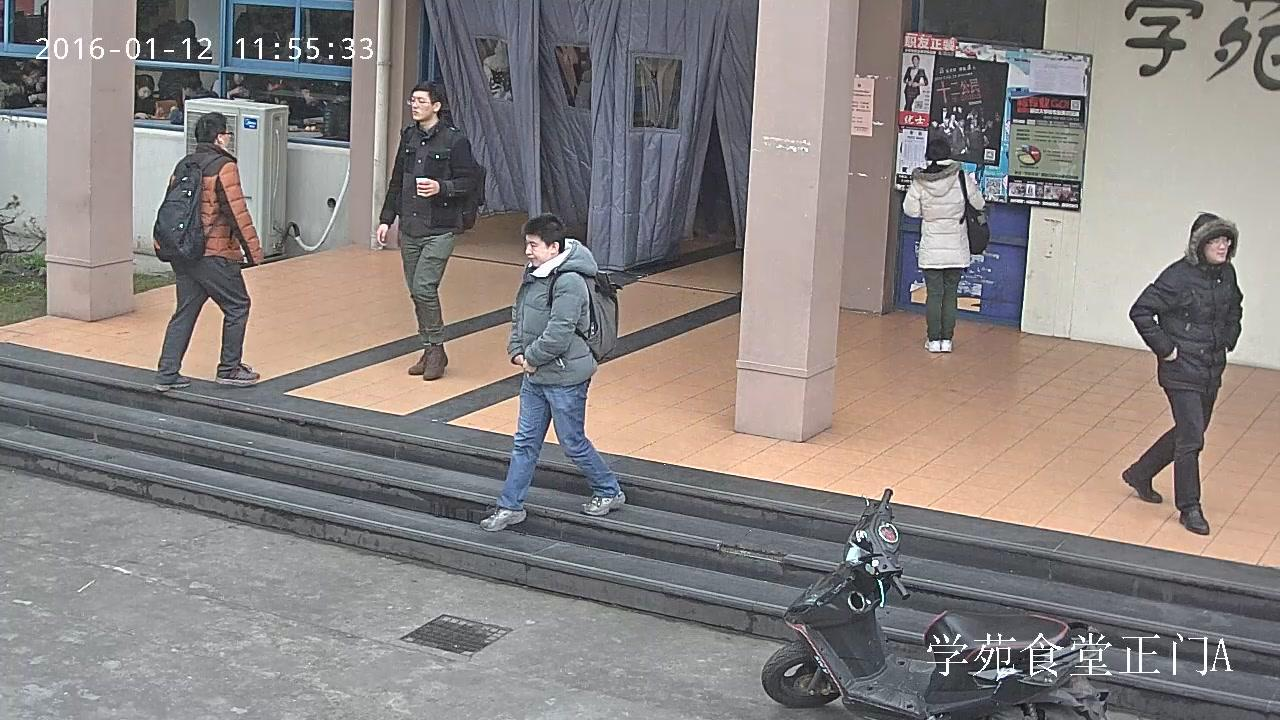person: (477, 212, 626, 532), (1120, 213, 1244, 532), (376, 80, 482, 381), (152, 112, 264, 391), (902, 138, 989, 352), (158, 19, 211, 101), (6, 61, 47, 110), (482, 40, 511, 100), (321, 87, 350, 141), (903, 56, 928, 111), (134, 74, 156, 120)
